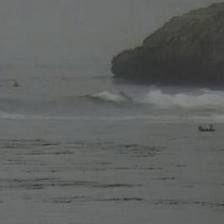surfer: (199, 124, 215, 132), (12, 82, 20, 88)
